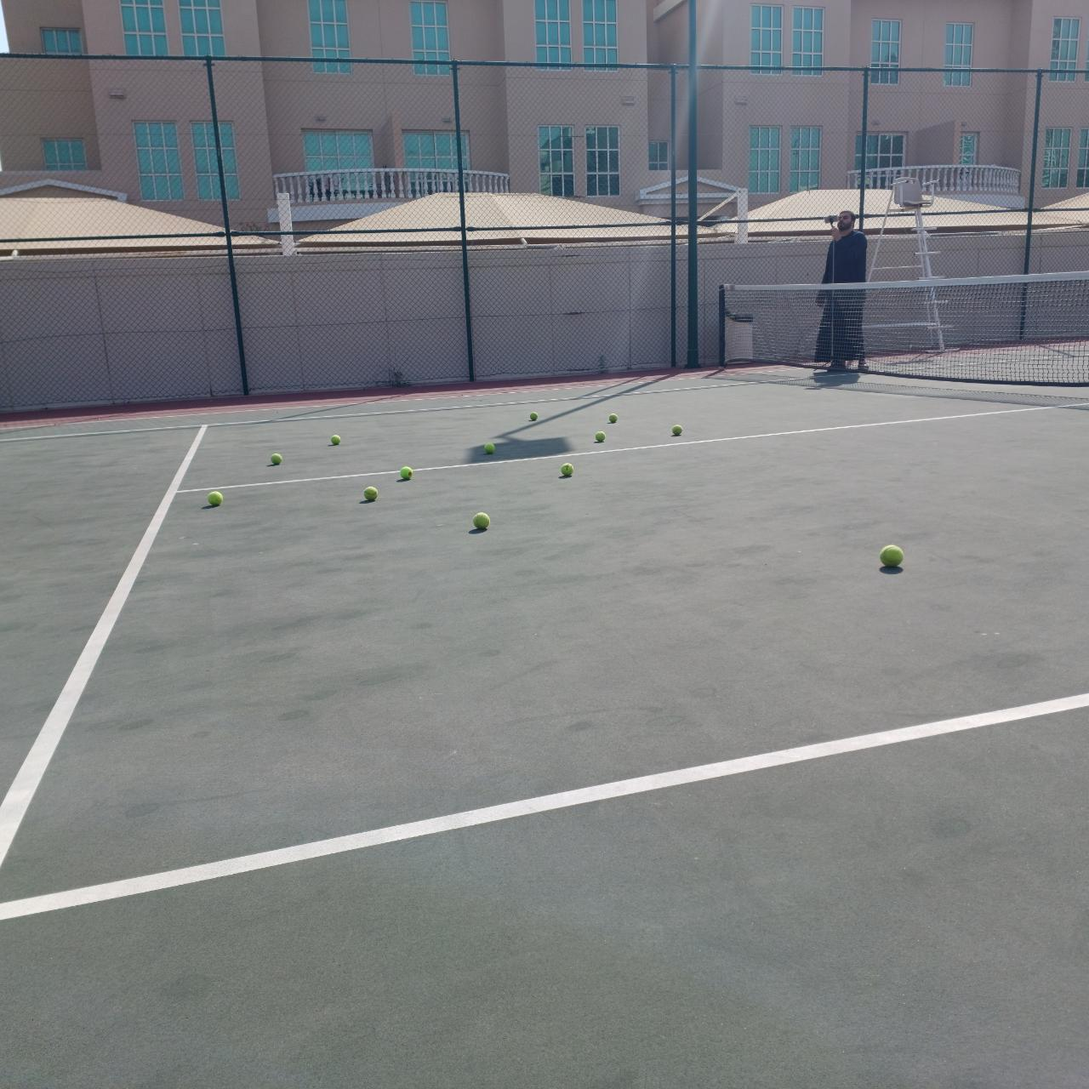tennis-ball: (878, 542, 904, 567), (470, 510, 490, 529), (205, 487, 223, 506), (362, 484, 378, 501), (558, 461, 574, 477), (397, 465, 412, 480), (268, 450, 282, 465), (328, 432, 341, 446), (594, 430, 606, 443), (670, 424, 682, 436), (484, 443, 496, 455), (608, 413, 618, 425), (530, 412, 539, 421)
